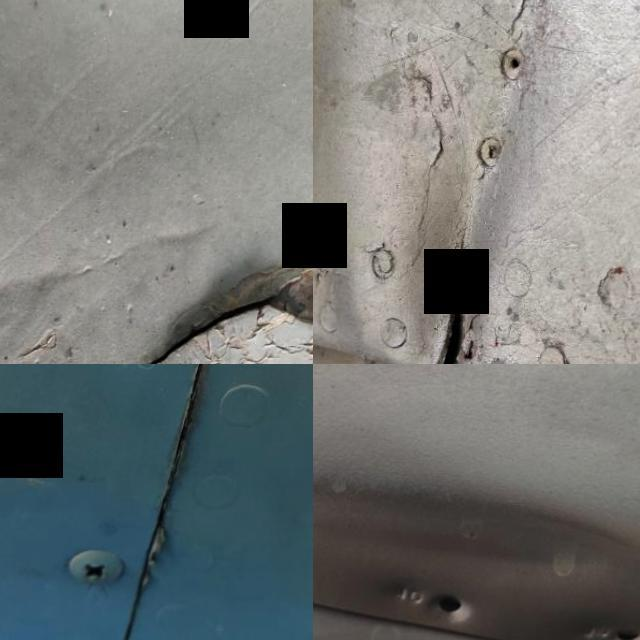Crack: (86, 215, 313, 364), (397, 270, 502, 364)
Missing_Fastener: (394, 556, 507, 640), (583, 591, 640, 640)
